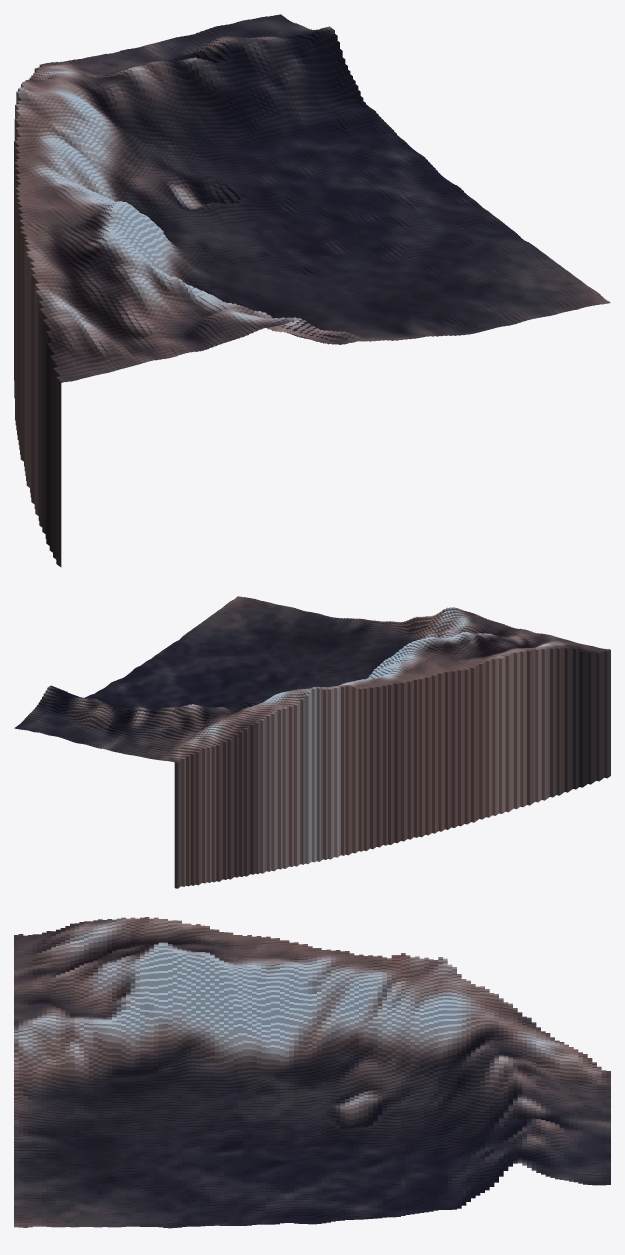
Rendered from chunk-08.glb.
3 renders of one model, top to bottom at view 1: azimuth 30°, elevation 25°; view 2: azimuth 150°, elevation 25°; view 3: azimuth 270°, elevation 25°, orthographic. The views are drawn at different scales.
Parts seen in each view (by area): view 1: Mesh_0.024; view 2: Mesh_0.024; view 3: Mesh_0.024.
Boxes of the visible parts, x1,y1,x2,y2 form: Mesh_0.024: (14,14,610,567); Mesh_0.024: (14,596,610,888); Mesh_0.024: (14,917,610,1228).
Bounding box in the file's own units: 30750 × 13662 × 32000.
